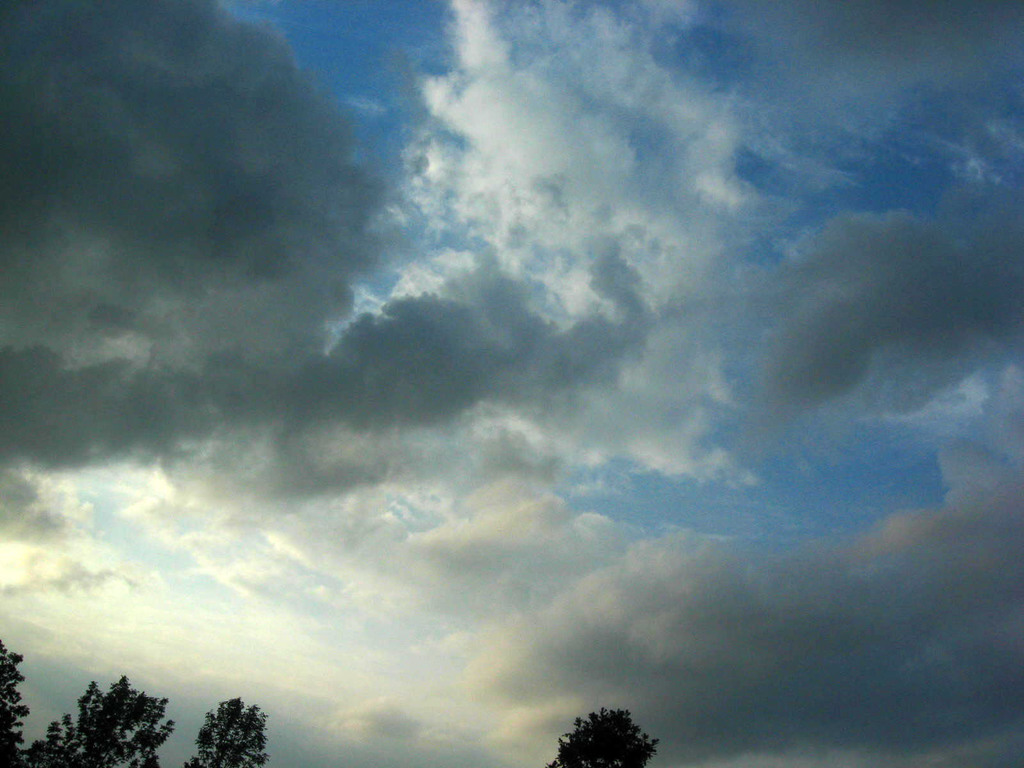Tree: (29, 673, 174, 768), (545, 708, 659, 768), (185, 699, 268, 768), (0, 639, 30, 765)
